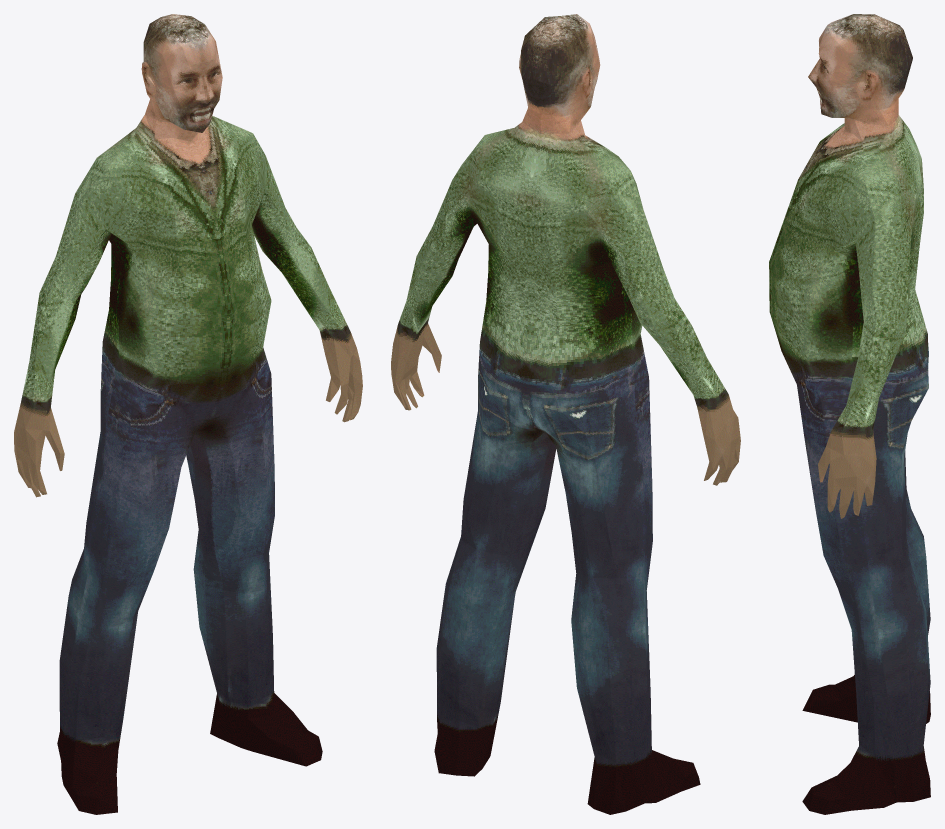
The model's file is grotony.glb.
3 views of the same model, side by side, from view 1: azimuth 30°, elevation 25°; view 2: azimuth 150°, elevation 25°; view 3: azimuth 270°, elevation 25° (orthographic).
Visible parts, largest first — view 1: Object_2; view 2: Object_2; view 3: Object_2.
Part boxes in pixels (left/top/right/bottom): Object_2: left=14, top=14, right=362, bottom=814; Object_2: left=391, top=14, right=740, bottom=814; Object_2: left=769, top=14, right=930, bottom=814.
Size of the model in its own units: 86.83 by 184 by 36.56.
1 material, 1 textured.
